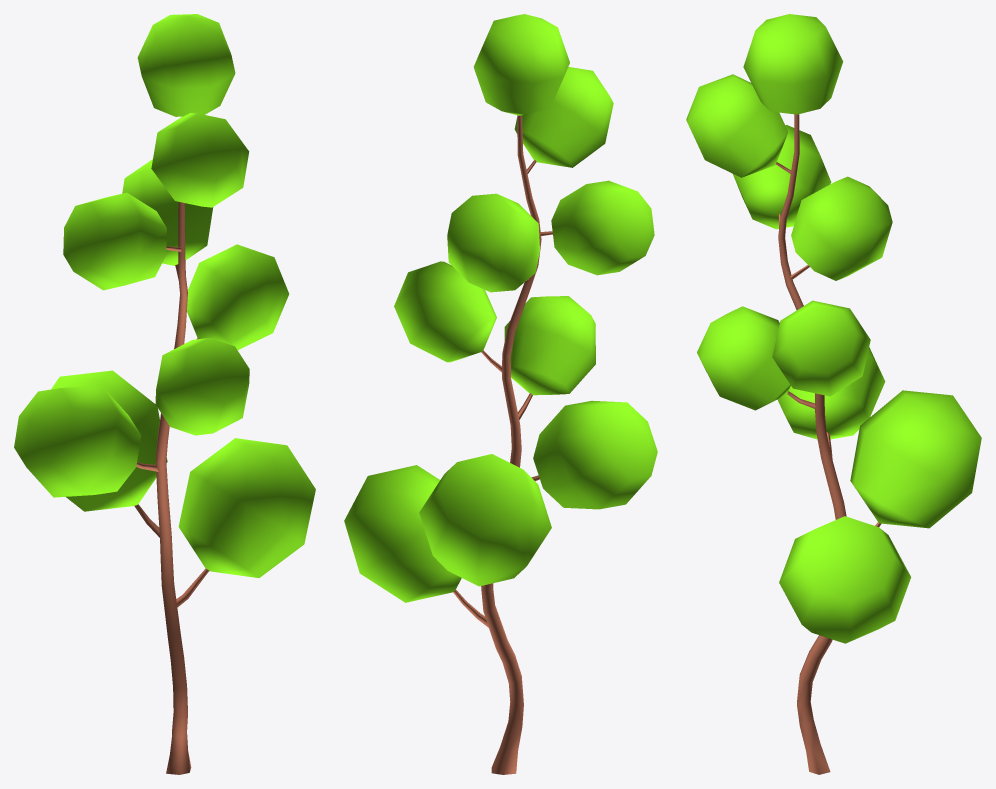
Rendered from Tree_Bobo6.fbx.
The picture shows the model from 3 angles, left to right: view 1: azimuth 30°, elevation 25°; view 2: azimuth 150°, elevation 25°; view 3: azimuth 270°, elevation 25°; orthographic projection. The views are drawn at different scales.
Parts seen in each view (by area): view 1: Mesh; view 2: Mesh; view 3: Mesh.
Part boxes in pixels (x1,y1,x2,y2): Mesh: (14,14,315,774); Mesh: (344,14,657,774); Mesh: (686,14,981,774).
Size of the model in its own units: 1663 by 4134 by 1473.
